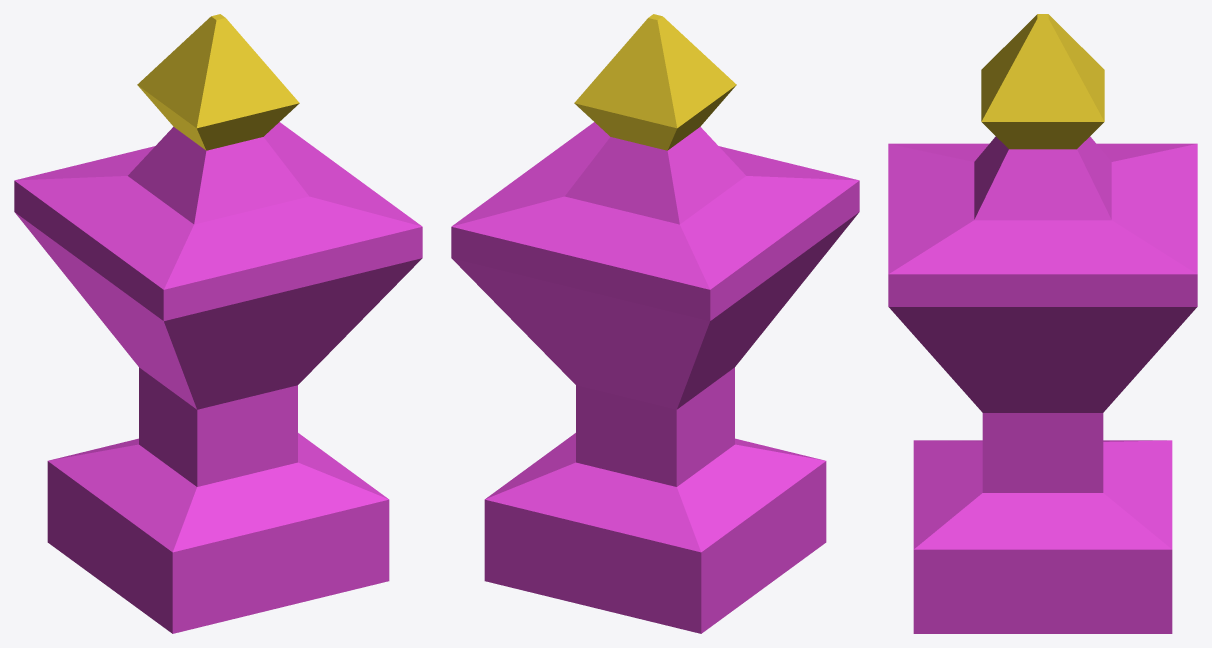
The model's file is lvl_2.fbx.
3 renders of one model, left to right at view 1: azimuth 30°, elevation 25°; view 2: azimuth 150°, elevation 25°; view 3: azimuth 270°, elevation 25°, orthographic. The views are drawn at different scales.
Visible parts, largest first — view 1: Cube.001, Cube; view 2: Cube.001, Cube; view 3: Cube.001, Cube.
Boxes of the visible parts, x1=… form: Cube.001: x1=14, y1=122, x2=422, y2=633; Cube: x1=137, y1=14, x2=299, y2=150; Cube.001: x1=451, y1=122, x2=859, y2=633; Cube: x1=574, y1=14, x2=736, y2=150; Cube.001: x1=888, y1=136, x2=1197, y2=633; Cube: x1=981, y1=14, x2=1104, y2=149.
Size of the model in its own units: 199 by 199 by 400.
